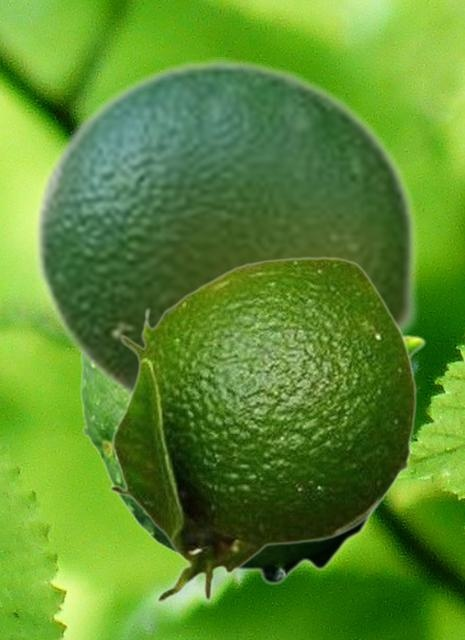dalandan: (32, 57, 420, 400), (107, 256, 416, 603), (79, 331, 425, 585)
